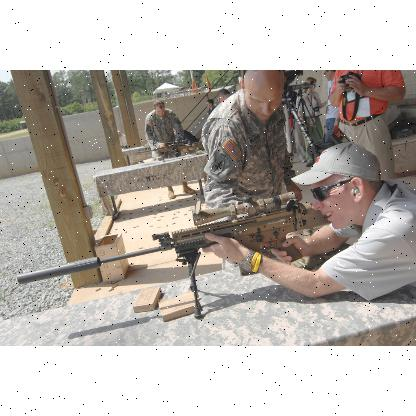gun: (17, 190, 331, 316), (134, 138, 202, 160)
